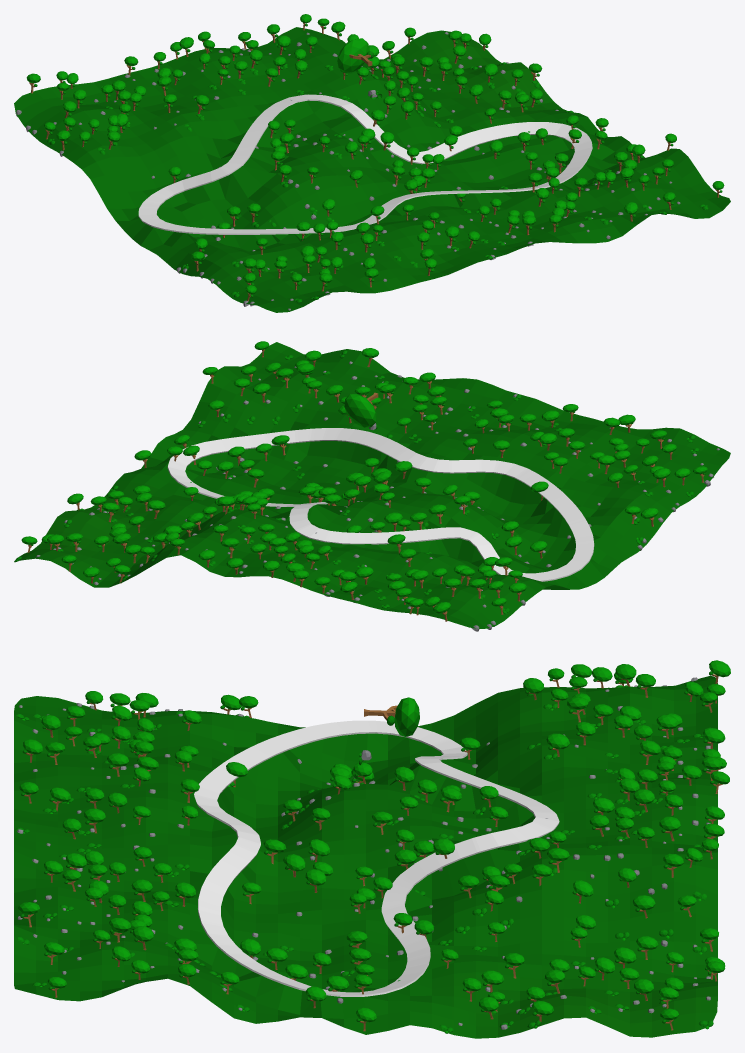
The model's file is Lobby.fbx.
3 renders of one model, top to bottom at view 1: azimuth 30°, elevation 25°; view 2: azimuth 150°, elevation 25°; view 3: azimuth 270°, elevation 25°, orthographic. The views are drawn at different scales.
Visible parts, largest first — view 1: Plane, Road, Tree; view 2: Plane, Road, Tree; view 3: Plane, Road, Tree.
Part boxes in pixels (x1,y1,x2,y2): Plane: (14, 27, 730, 312); Road: (138, 94, 592, 234); Tree: (337, 38, 373, 72); Plane: (16, 342, 730, 629); Road: (167, 428, 594, 581); Tree: (344, 392, 378, 427); Plane: (14, 675, 717, 1038); Road: (194, 720, 559, 996); Tree: (364, 697, 419, 736).
Size of the model in its own units: 11930 by 3545 by 11982.
